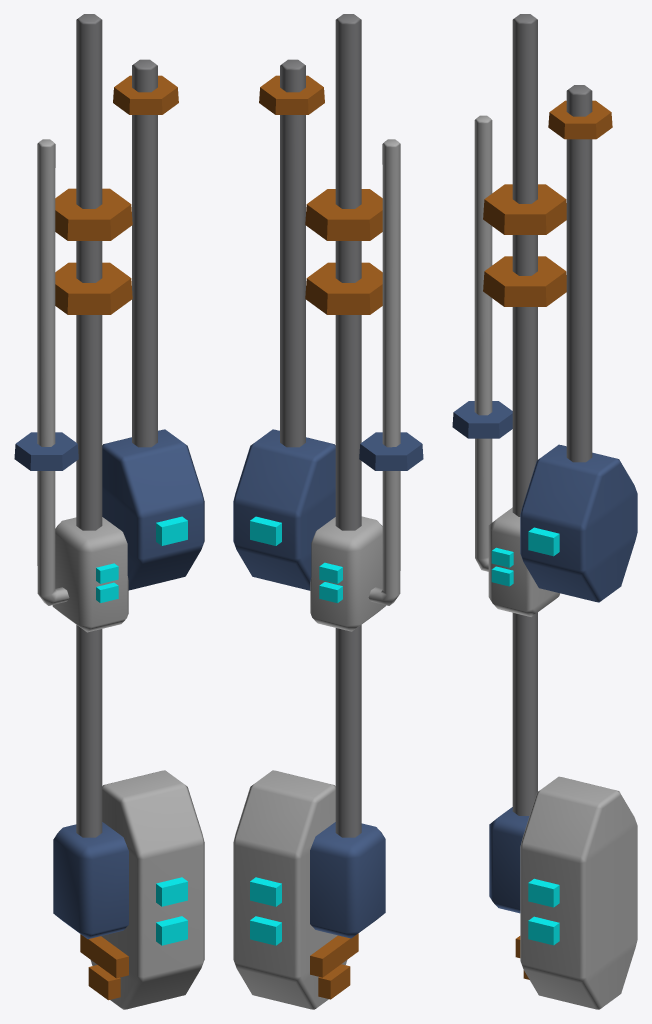
Rendered from SM_Props_38.fbx.
3 renders of one model, left to right at view 1: azimuth 30°, elevation 25°; view 2: azimuth 150°, elevation 25°; view 3: azimuth 330°, elevation 25°, orthographic. The views are drawn at different scales.
Visible parts, largest first — view 1: SM_Props_38; view 2: SM_Props_38; view 3: SM_Props_38.
Boxes of the visible parts, bbox=[...] form: SM_Props_38: bbox=[14, 14, 204, 1009]; SM_Props_38: bbox=[233, 14, 423, 1009]; SM_Props_38: bbox=[452, 14, 637, 1009].
Size of the model in its own units: 30.93 by 23.94 by 188.
1 material, 1 textured.
